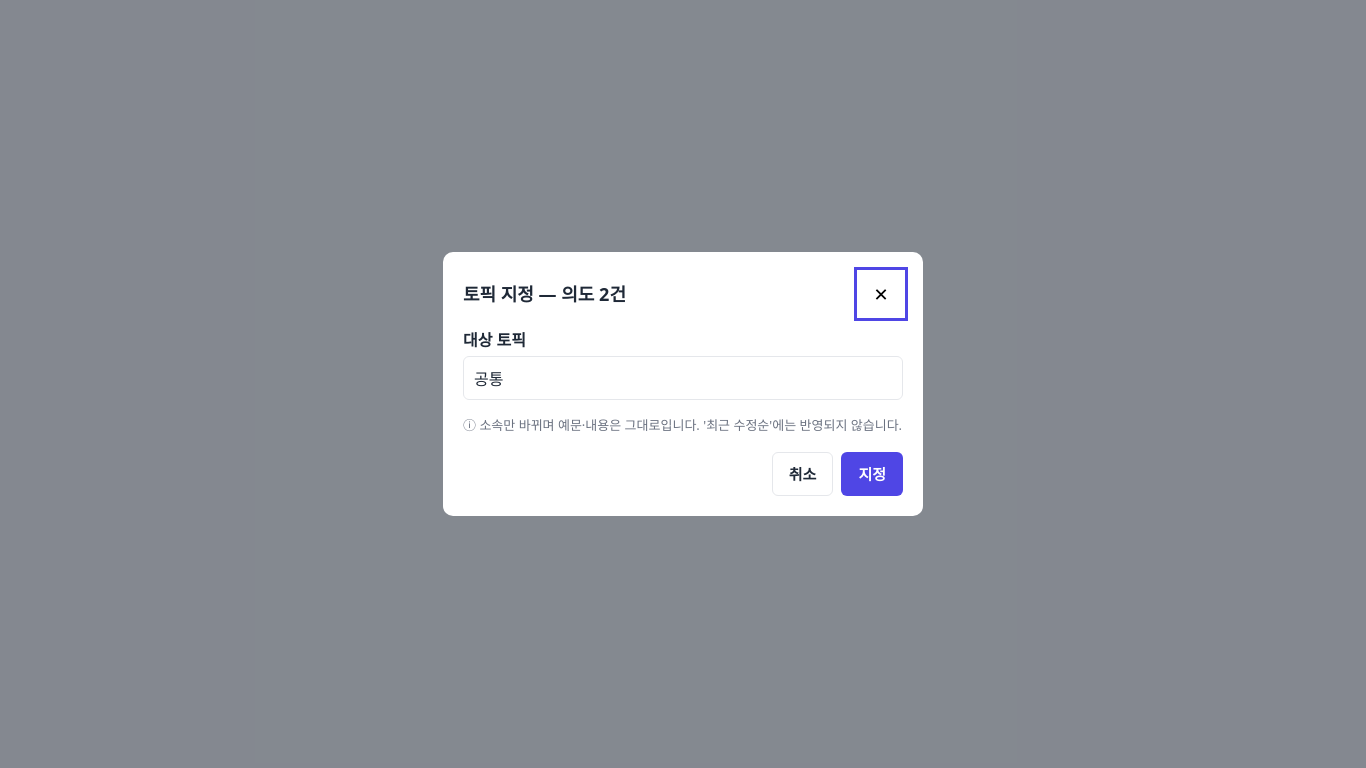
Test: BulkTopicAssignModal › 비활성 토픽을 대상으로 선택하면 경고 문구가 보인다
Click the dropdown labelled "대상 토픽". click: (683, 378)
box: [463, 356, 903, 400]
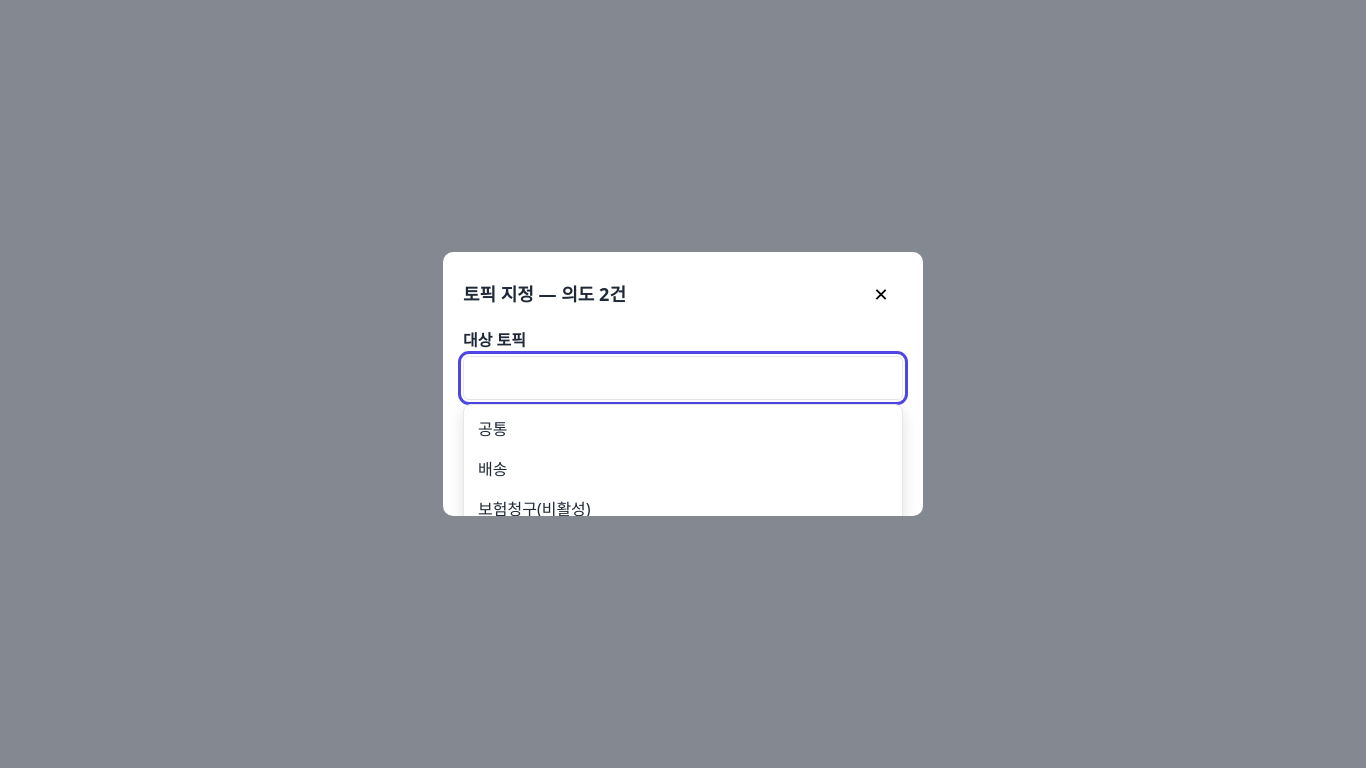
Click the option "보험청구(비활성)". click: (534, 509)
box: [478, 498, 591, 520]
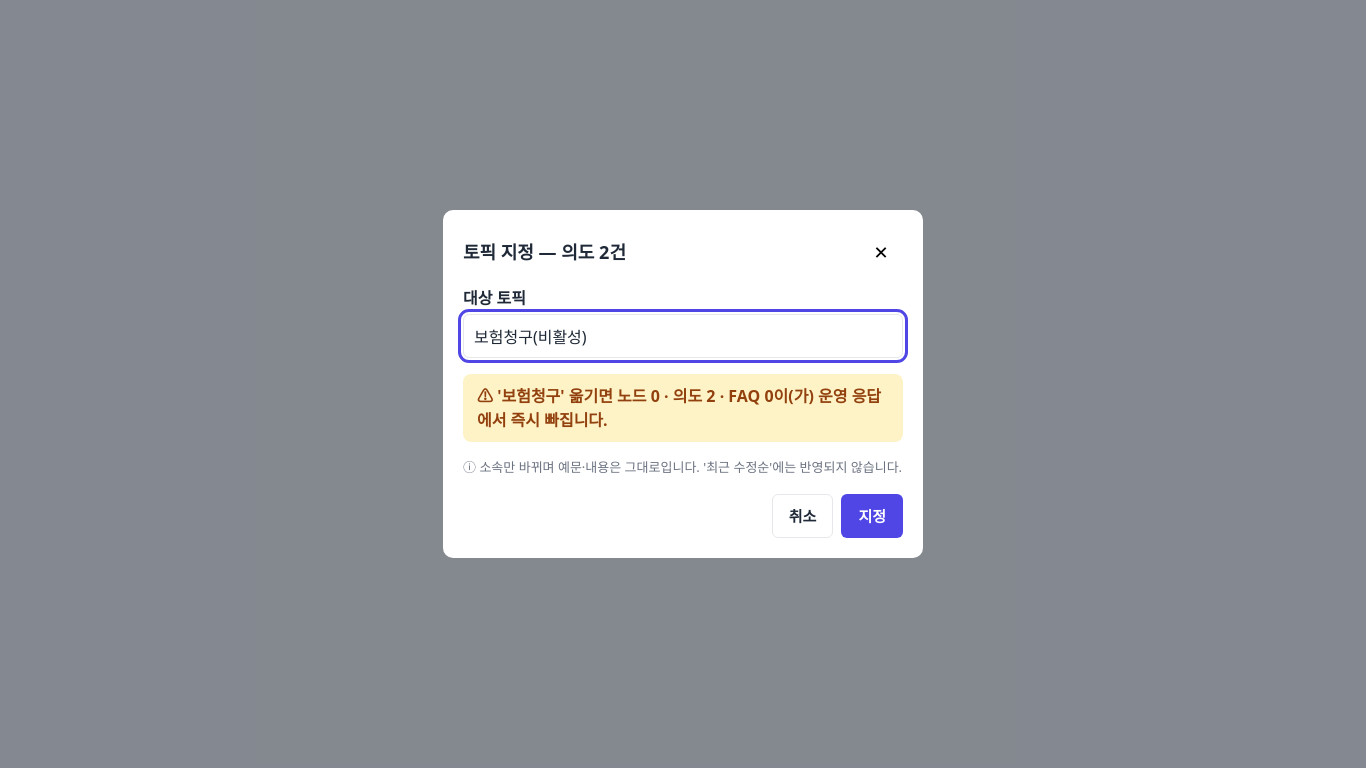
Check: the text "⚠ '보험청구' 옮기면 노드 0 · 의도 2 · FAQ 0이(가) 운영 응답에서 즉시 빠집니다." is shown, box [463, 374, 903, 442]
